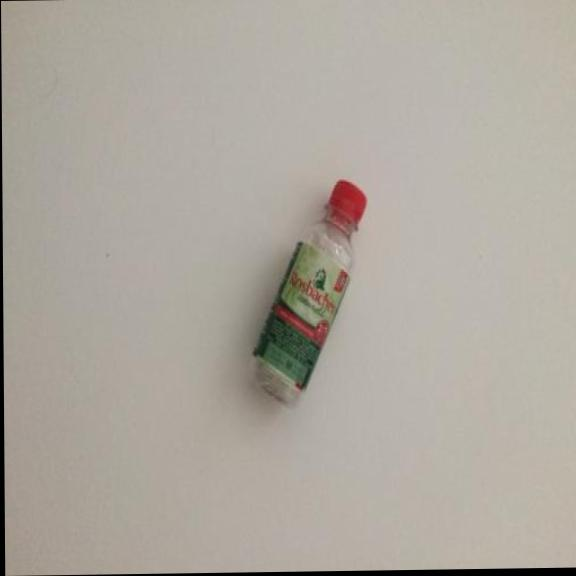Plastik: (245, 172, 366, 416)
